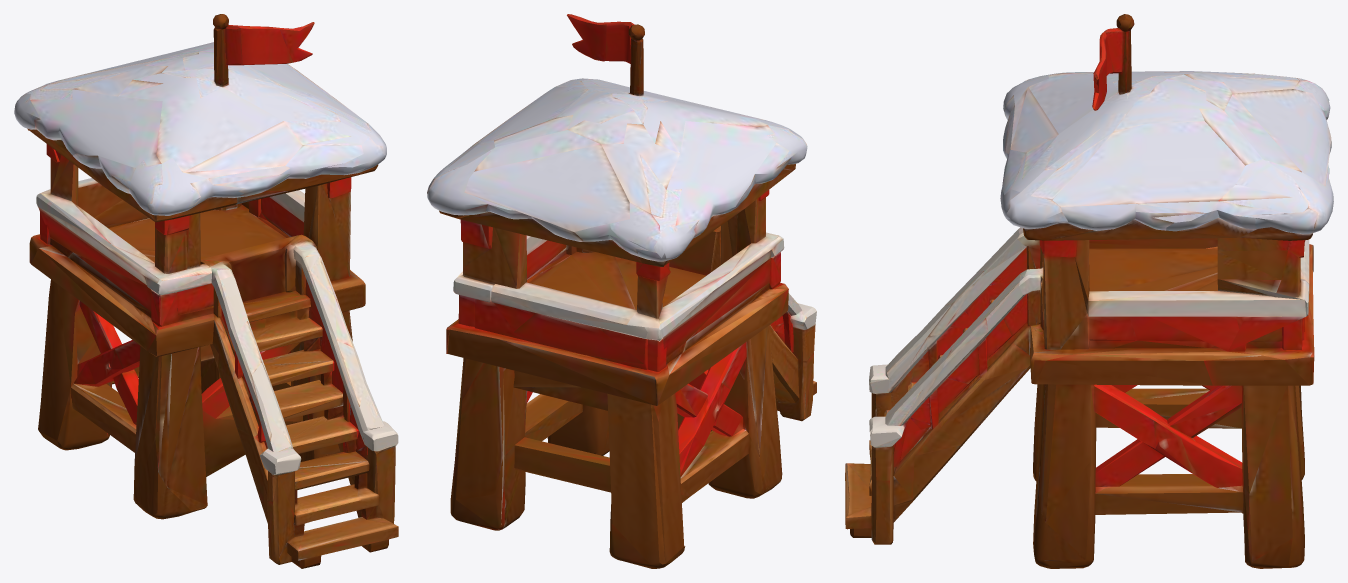
File: sne-dommertaarn.glb
3 views of the same model, side by side, from view 1: azimuth 30°, elevation 25°; view 2: azimuth 150°, elevation 25°; view 3: azimuth 270°, elevation 25° (orthographic). The views are drawn at different scales.
Bounding box in the file's own units: 1.09 × 1.9 × 1.68.
Materials: 1 (1 with a texture image).
